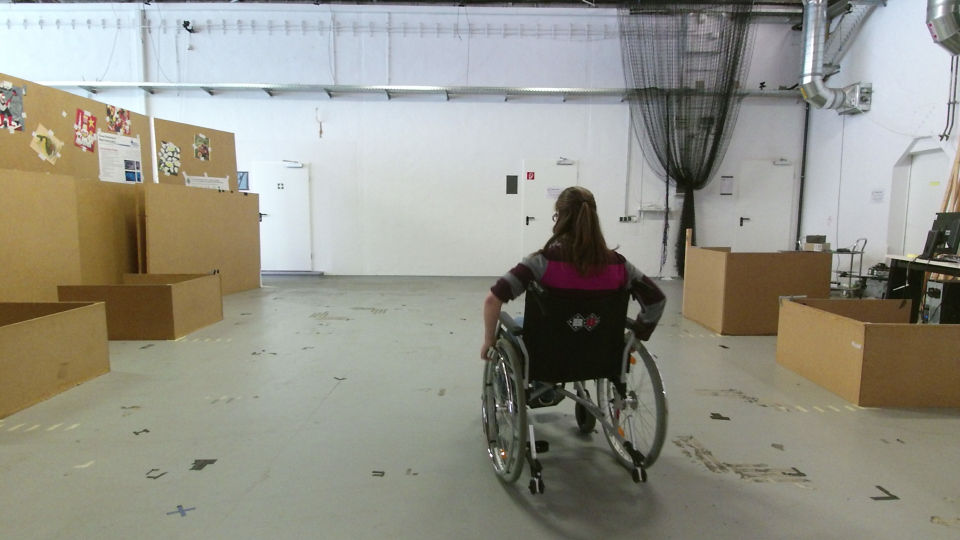wheelchair: (472, 178, 673, 501)
